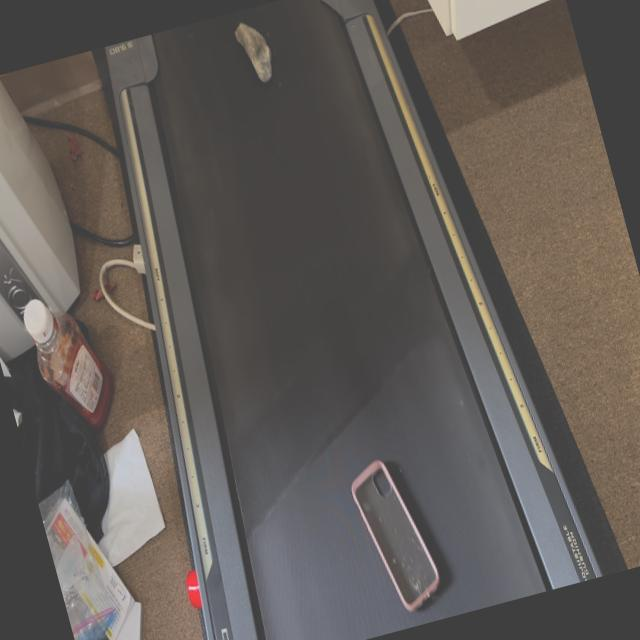Trash: (344, 448, 448, 618), (232, 16, 279, 87)
